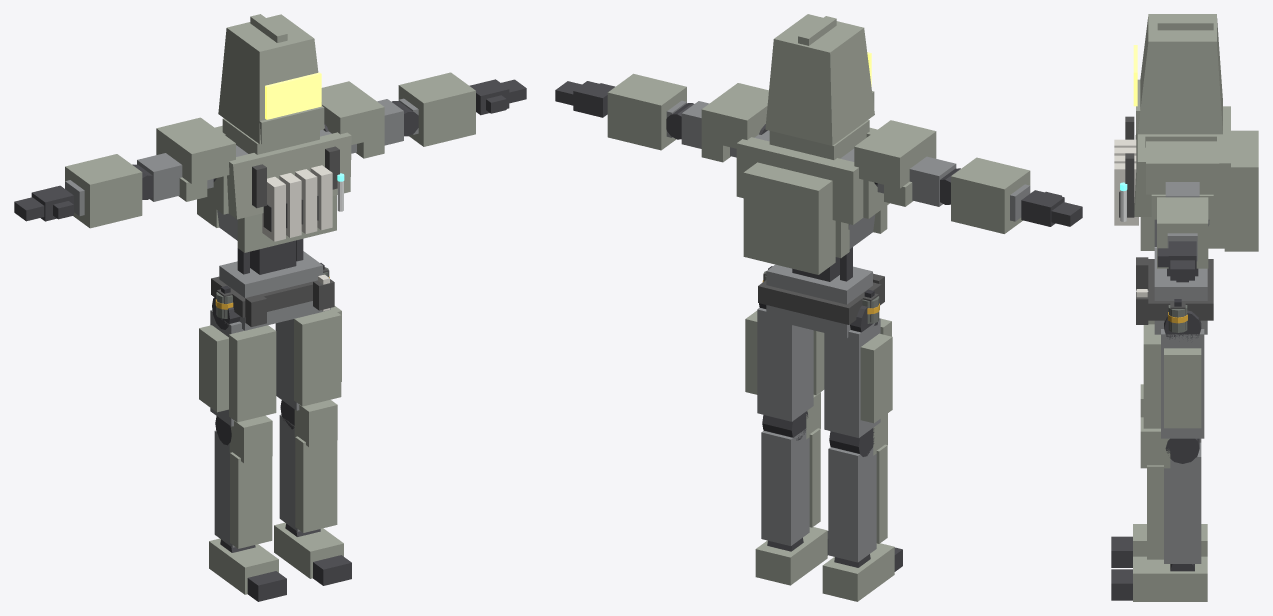
The model's file is char_F1_rifleman.glb.
3 renders of one model, left to right at view 1: azimuth 30°, elevation 25°; view 2: azimuth 150°, elevation 25°; view 3: azimuth 270°, elevation 25°, orthographic. The views are drawn at different scales.
Visible parts, largest first — view 1: Head_mesh, UpperChest_mesh, RightUpperLeg_mesh, RightLowerLeg_mesh, LeftLowerLeg_mesh, LeftUpperLeg_mesh, Hips_mesh, RightUpperArm_mesh, RightLowerArm_mesh, LeftLowerArm_mesh, LeftUpperArm_mesh, RightFoot_mesh (+11 smaller); view 2: UpperChest_mesh, Head_mesh, LeftLowerLeg_mesh, RightLowerLeg_mesh, RightUpperLeg_mesh, LeftUpperLeg_mesh, Hips_mesh, RightUpperArm_mesh, RightLowerArm_mesh, LeftLowerArm_mesh, LeftUpperArm_mesh, RightFoot_mesh (+5 smaller); view 3: Head_mesh, UpperChest_mesh, LeftLowerLeg_mesh, LeftUpperLeg_mesh, LeftUpperArm_mesh, Hips_mesh, LeftFoot_mesh, LeftLowerArm_mesh, LeftHand_mesh, Chest_mesh, LeftToes_mesh, RightToes_mesh (+4 smaller).
Part boxes in pixels (<box>): Head_mesh: <box>218,14,324,144</box>; UpperChest_mesh: <box>197,118,351,231</box>; RightUpperLeg_mesh: <box>199,295,276,426</box>; RightLowerLeg_mesh: <box>214,415,272,548</box>; LeftLowerLeg_mesh: <box>279,400,337,532</box>; LeftUpperLeg_mesh: <box>275,306,341,410</box>; Hips_mesh: <box>211,251,334,330</box>; RightUpperArm_mesh: <box>137,117,235,201</box>; RightLowerArm_mesh: <box>65,154,152,228</box>; LeftLowerArm_mesh: <box>391,72,475,146</box>; LeftUpperArm_mesh: <box>321,81,403,158</box>; RightFoot_mesh: <box>209,538,278,594</box>; UpperChest_mesh: <box>736,120,889,274</box>; Head_mesh: <box>765,14,874,145</box>; LeftLowerLeg_mesh: <box>761,392,820,545</box>; RightLowerLeg_mesh: <box>828,413,887,562</box>; RightUpperLeg_mesh: <box>824,305,892,437</box>; LeftUpperLeg_mesh: <box>745,303,824,421</box>; Hips_mesh: <box>758,264,884,338</box>; RightUpperArm_mesh: <box>854,120,956,206</box>; RightLowerArm_mesh: <box>940,157,1030,233</box>; LeftLowerArm_mesh: <box>607,73,693,150</box>; LeftUpperArm_mesh: <box>681,83,768,162</box>; RightFoot_mesh: <box>822,543,894,601</box>; Head_mesh: <box>1133,14,1222,134</box>; UpperChest_mesh: <box>1119,106,1258,251</box>; LeftLowerLeg_mesh: <box>1140,417,1201,563</box>; LeftUpperLeg_mesh: <box>1143,310,1204,438</box>; LeftUpperArm_mesh: <box>1146,141,1219,215</box>; Hips_mesh: <box>1136,247,1213,334</box>; LeftFoot_mesh: <box>1133,556,1207,601</box>; LeftLowerArm_mesh: <box>1157,197,1208,268</box>; LeftHand_mesh: <box>1157,241,1196,280</box>; Chest_mesh: <box>1140,217,1224,250</box>; LeftToes_mesh: <box>1111,569,1132,600</box>; RightToes_mesh: <box>1111,536,1132,567</box>.
Bounding box in the file's own units: 1.92 × 1.97 × 0.475.
